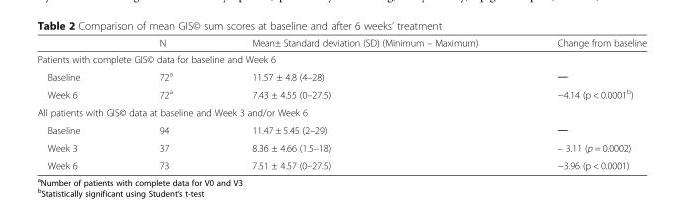table: (36, 36, 646, 170)
table column: (211, 36, 517, 170), (517, 36, 646, 170), (119, 36, 211, 170), (36, 36, 119, 170)
table column header: (36, 36, 646, 50)
table projected row header: (36, 50, 646, 67), (36, 103, 646, 120)
table row: (36, 84, 646, 103), (36, 120, 646, 138), (36, 138, 646, 156), (36, 50, 646, 67), (36, 67, 646, 84), (36, 103, 646, 120), (36, 36, 646, 50), (36, 156, 646, 170)
